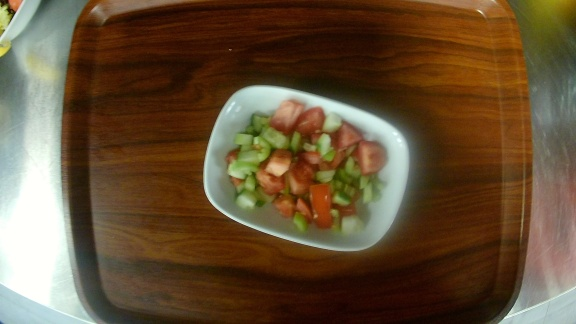cobansalata: (205, 84, 410, 252)
